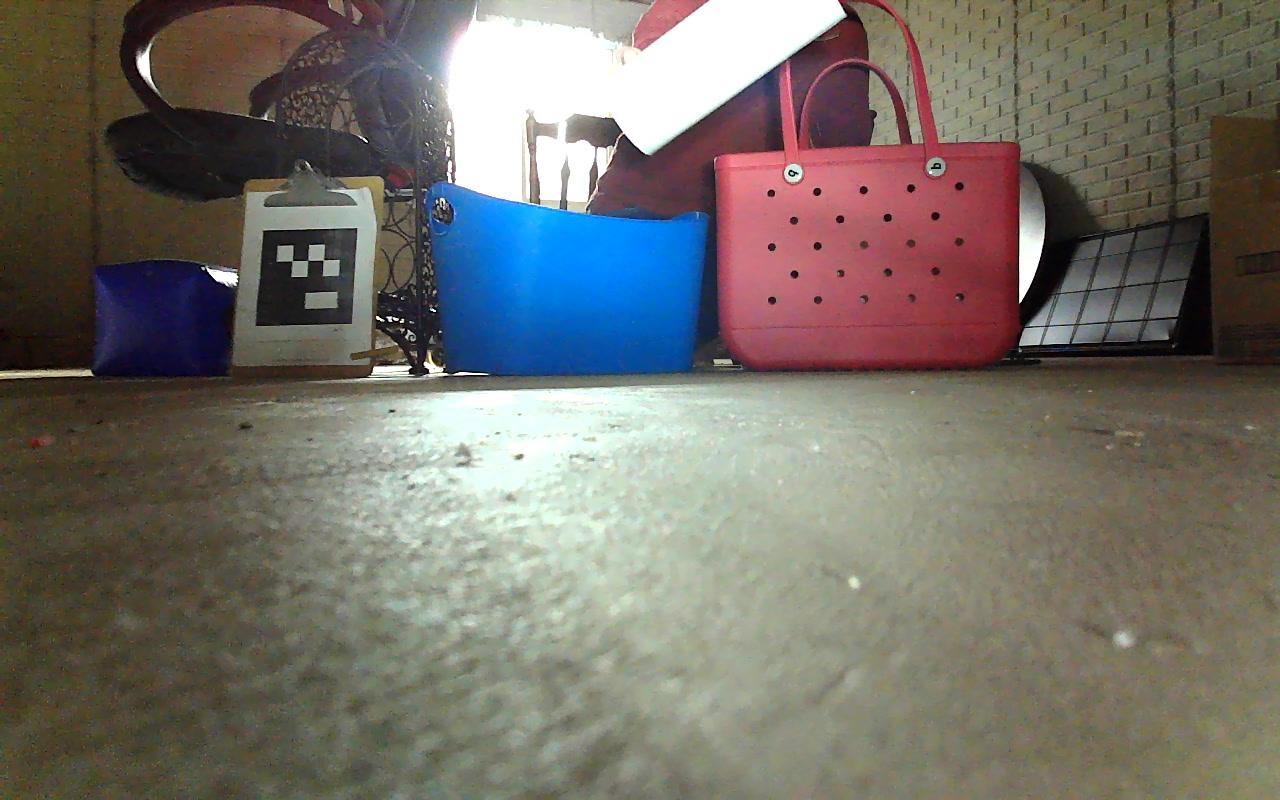coral: (602, 0, 852, 169)
